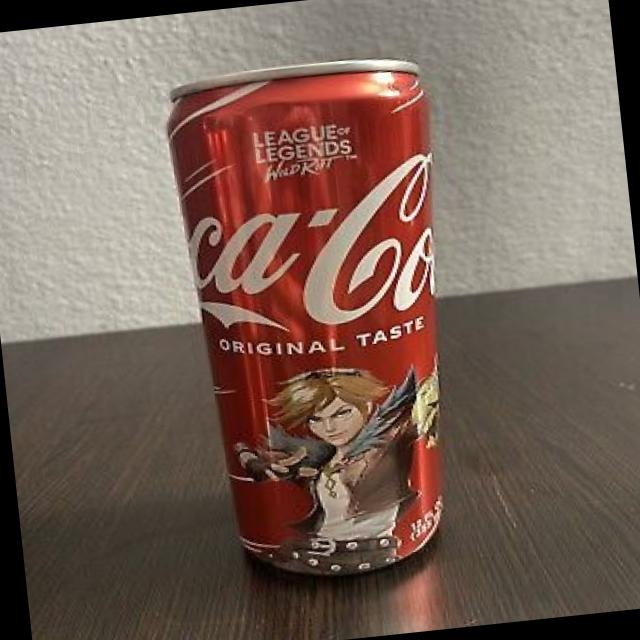cocacola: (162, 62, 459, 588)
